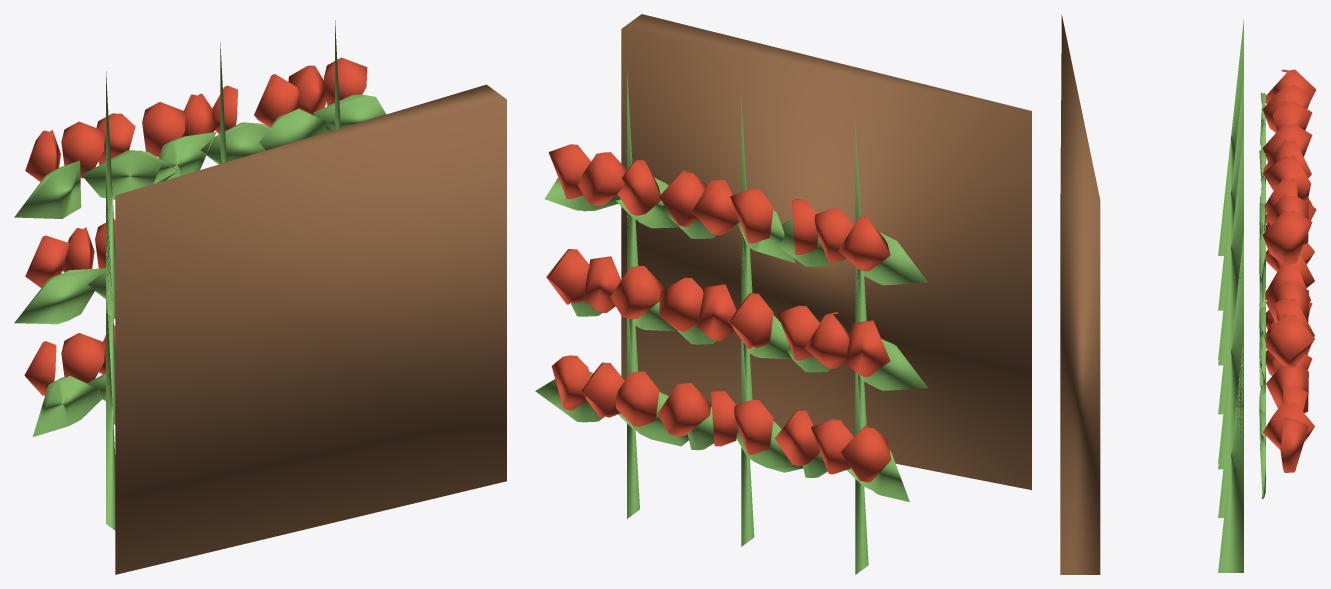
Rendered from tomato_ripe.glb.
3 renders of one model, left to right at view 1: azimuth 30°, elevation 25°; view 2: azimuth 150°, elevation 25°; view 3: azimuth 270°, elevation 25°, orthographic.
Parts seen in each view (by area): view 1: Soil, Leaf.002, Leaf, Leaf.004, Leaf.005, Leaf.010, Fruit.001, Fruit.015, Fruit.007, Leaf.016, Leaf.011, Stem (+13 smaller); view 2: Soil, Fruit.011, Fruit.021, Fruit, Fruit.018, Fruit.014, Fruit.025, Fruit.003, Fruit.006, Fruit.016, Fruit.012, Fruit.015 (+35 smaller); view 3: Soil, Stem.006, Stem.007, Stem.008, Fruit.026, Fruit.023, Stem.005, Stem.002, Fruit.020, Fruit.017, Fruit.011, Fruit.019 (+13 smaller).
Part boxes in pixels (<box>): Soil: <box>115,84,506,574</box>; Leaf.002: <box>14,268,105,324</box>; Leaf: <box>32,376,102,436</box>; Leaf.004: <box>14,160,81,218</box>; Leaf.005: <box>81,150,177,199</box>; Leaf.010: <box>153,132,216,183</box>; Fruit.001: <box>61,333,104,383</box>; Fruit.015: <box>142,102,185,157</box>; Fruit.007: <box>61,121,104,178</box>; Leaf.016: <box>259,108,334,150</box>; Leaf.011: <box>200,122,270,164</box>; Stem: <box>106,288,115,530</box>; Soil: <box>621,14,1031,489</box>; Fruit.011: <box>657,383,711,436</box>; Fruit.021: <box>610,266,663,319</box>; Fruit: <box>841,425,891,482</box>; Fruit.018: <box>615,371,659,426</box>; Fruit.014: <box>659,277,703,332</box>; Fruit.025: <box>578,152,626,205</box>; Fruit.003: <box>845,320,890,376</box>; Fruit.006: <box>838,214,890,271</box>; Fruit.016: <box>692,180,739,235</box>; Fruit.012: <box>728,293,773,348</box>; Fruit.015: <box>730,188,773,243</box>; Soil: <box>1060,14,1100,574</box>; Stem.006: <box>1218,342,1243,572</box>; Stem.007: <box>1218,232,1243,469</box>; Stem.008: <box>1218,128,1243,365</box>; Fruit.026: <box>1262,210,1312,265</box>; Fruit.023: <box>1265,314,1314,367</box>; Stem.005: <box>1218,74,1243,310</box>; Stem.002: <box>1218,19,1243,255</box>; Fruit.020: <box>1280,417,1308,472</box>; Fruit.017: <box>1263,156,1311,200</box>; Fruit.011: <box>1266,364,1308,413</box>; Fruit.019: <box>1263,402,1314,449</box>.
Size of the model in its own units: 1.17 by 1.29 by 0.6715.
